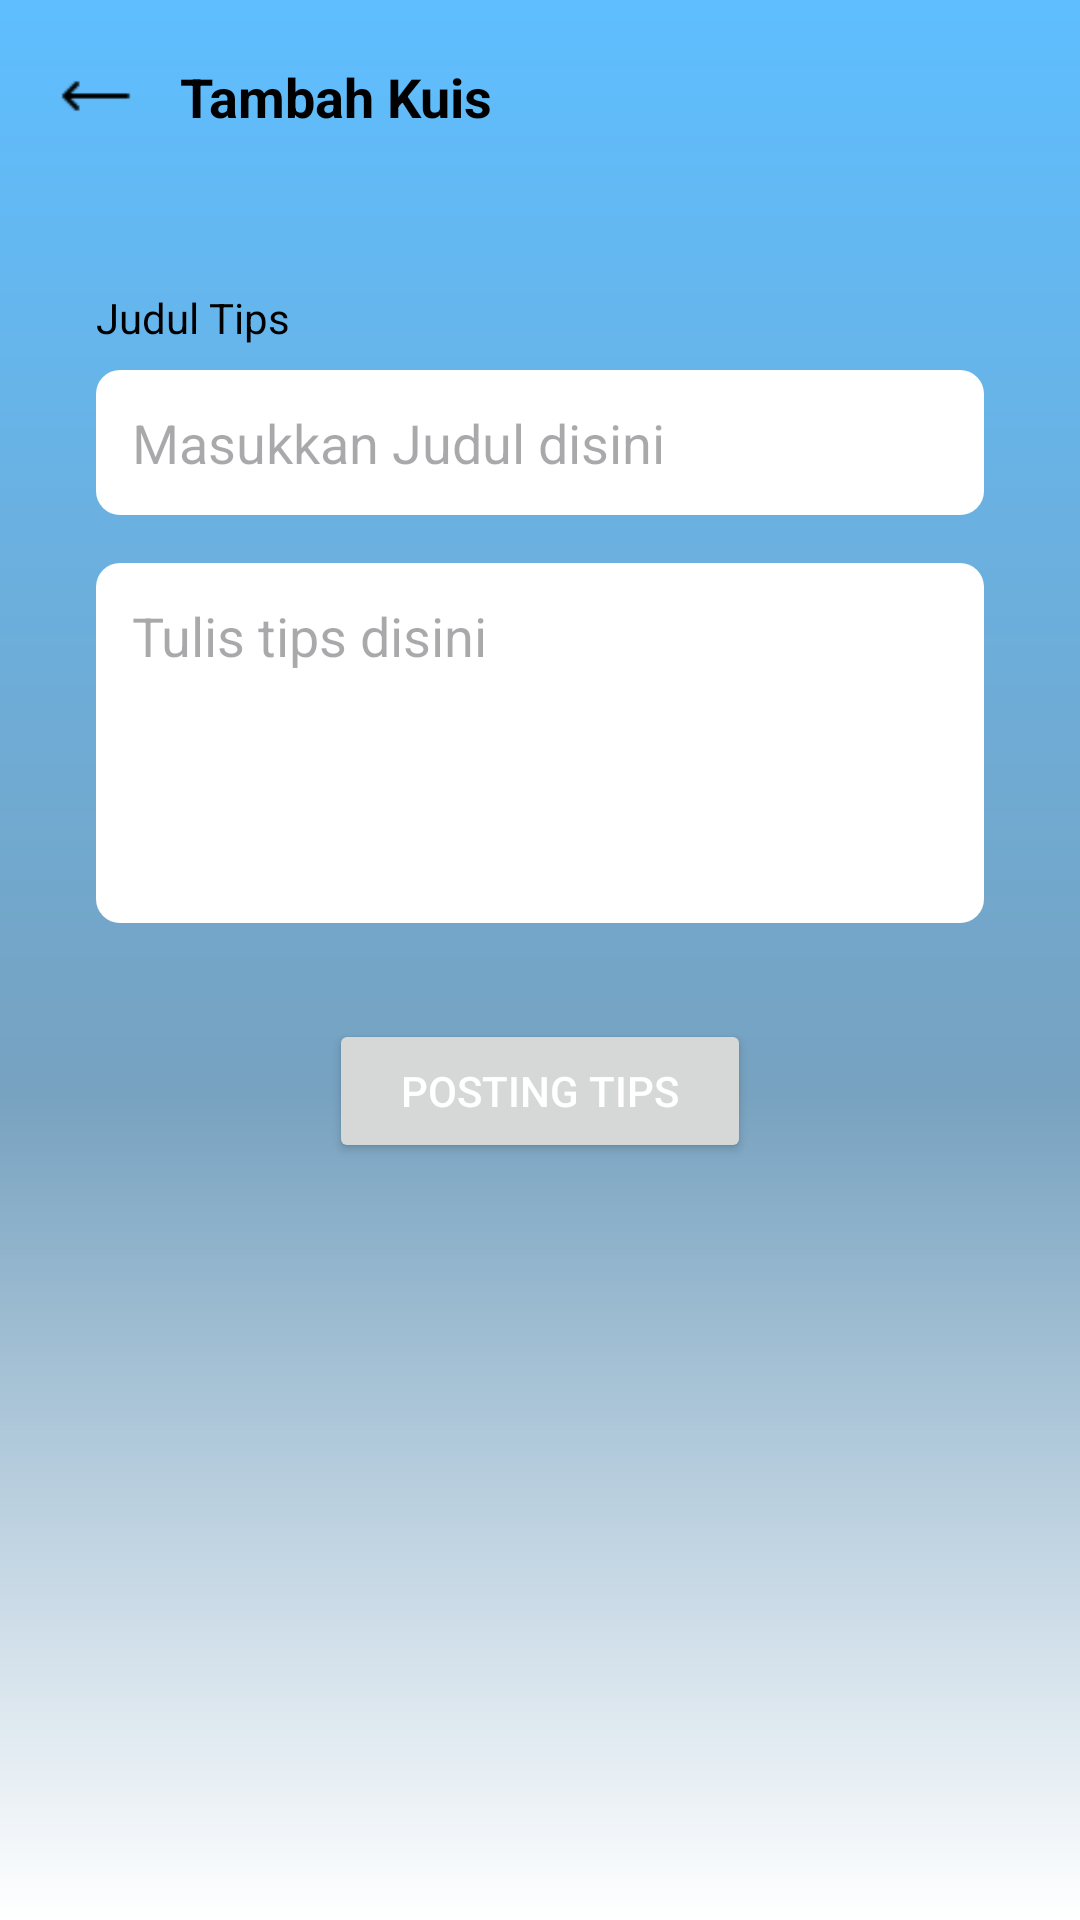

Where icons sit on this 1080*1920 app screen, as detection(x1, y1, x2, y2):
Back Arrow: detection(61, 81, 131, 111)
